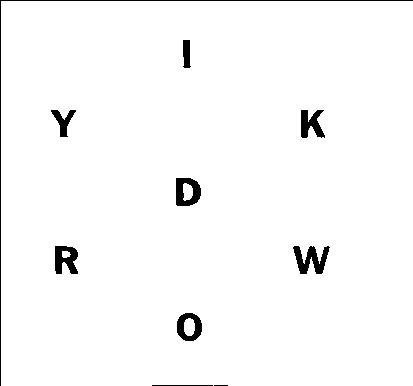I: (174, 35, 200, 76)
